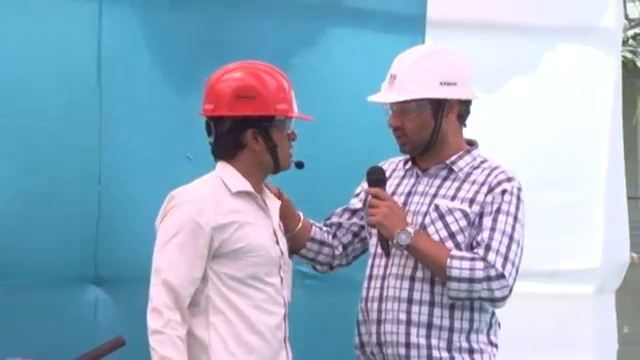helmet: (198, 59, 314, 124), (364, 42, 480, 106)
helmet_on: (361, 42, 482, 166), (197, 60, 314, 187)
person: (273, 42, 528, 360), (145, 59, 300, 360)
